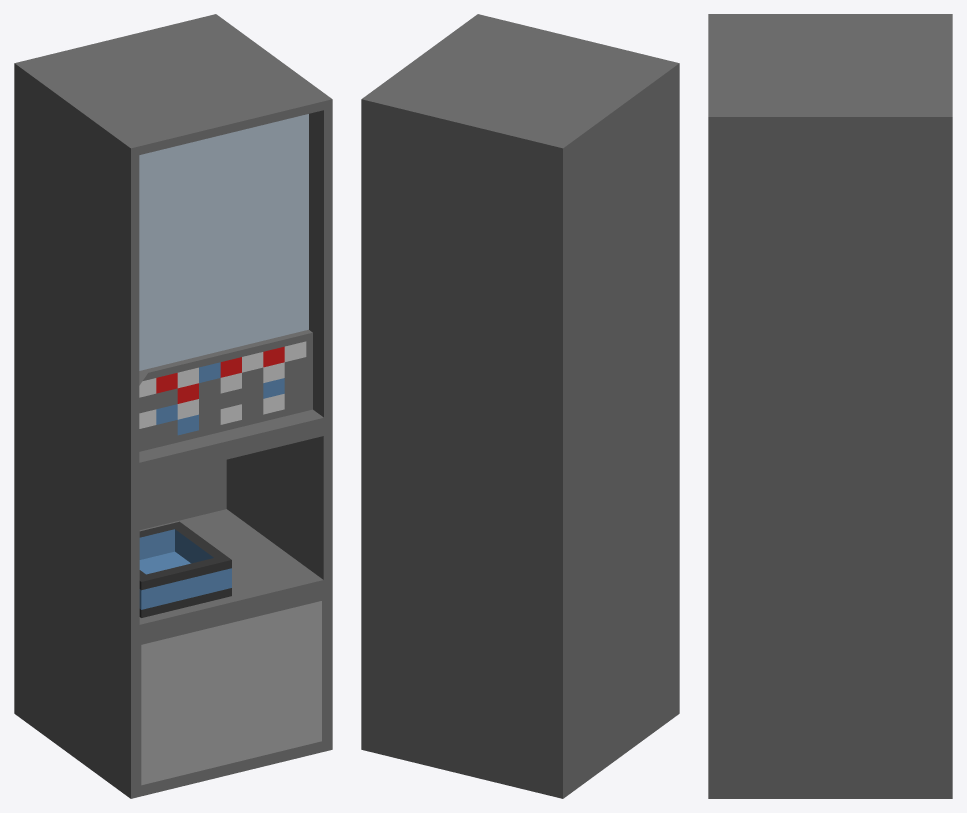
File: MonitorDeskVar1.fbx
The picture shows the model from 3 angles, left to right: view 1: azimuth 30°, elevation 25°; view 2: azimuth 150°, elevation 25°; view 3: azimuth 270°, elevation 25°; orthographic projection. The views are drawn at different scales.
Parts seen in each view (by area): view 1: MonitorDeskVar1; view 2: MonitorDeskVar1; view 3: MonitorDeskVar1.
Part boxes in pixels (<box>): MonitorDeskVar1: <box>14,14,332,798</box>; MonitorDeskVar1: <box>361,14,679,798</box>; MonitorDeskVar1: <box>708,14,952,798</box>.
Size of the model in its own units: 200 by 617 by 200.
